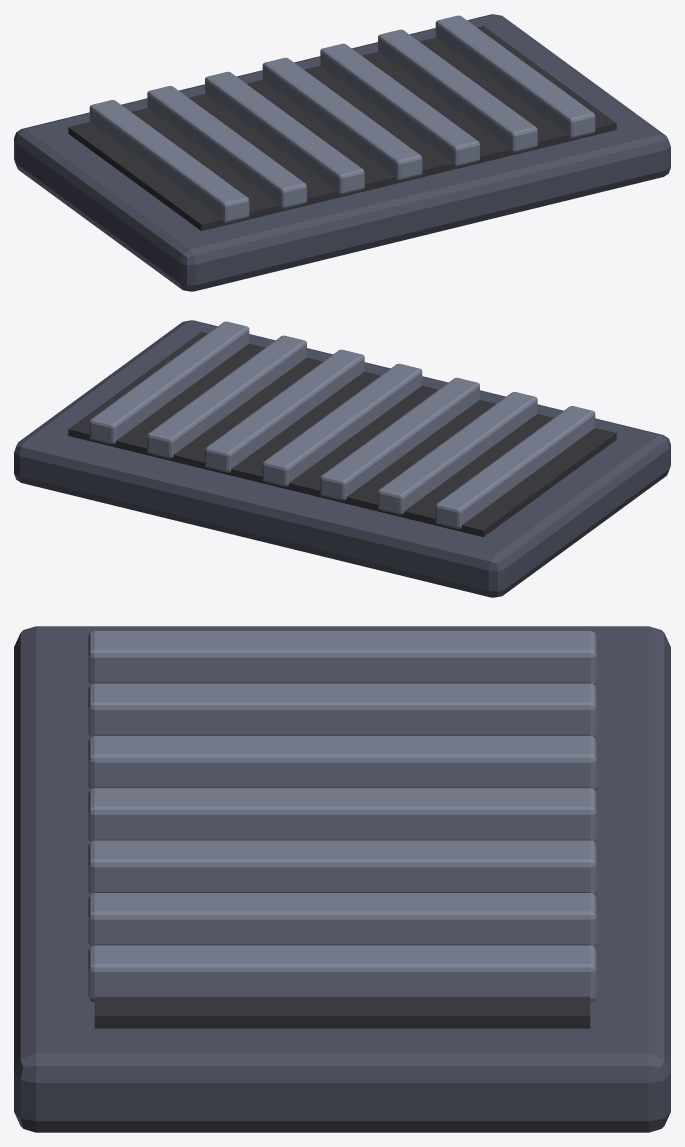
Rendered from storm_drain.glb.
3 views of the same model, one above another, from view 1: azimuth 30°, elevation 25°; view 2: azimuth 150°, elevation 25°; view 3: azimuth 270°, elevation 25° (orthographic). The views are drawn at different scales.
Parts seen in each view (by area): view 1: storm_drain__Frame, storm_drain__Recess, storm_drain__Grate bar.006, storm_drain__Grate bar, storm_drain__Grate bar.003, storm_drain__Grate bar.005, storm_drain__Grate bar.004, storm_drain__Grate bar.001, storm_drain__Grate bar.002; view 2: storm_drain__Frame, storm_drain__Recess, storm_drain__Grate bar.006, storm_drain__Grate bar, storm_drain__Grate bar.003, storm_drain__Grate bar.005, storm_drain__Grate bar.004, storm_drain__Grate bar.001, storm_drain__Grate bar.002; view 3: storm_drain__Frame, storm_drain__Grate bar.002, storm_drain__Grate bar.006, storm_drain__Grate bar.004, storm_drain__Grate bar.001, storm_drain__Grate bar.005, storm_drain__Grate bar, storm_drain__Grate bar.003, storm_drain__Recess.
Part boxes in pixels (x1,y1,x2,y2): storm_drain__Frame: [14, 14, 670, 291]; storm_drain__Recess: [68, 26, 616, 231]; storm_drain__Grate bar.006: [435, 15, 595, 138]; storm_drain__Grate bar: [89, 100, 249, 222]; storm_drain__Grate bar.003: [262, 57, 422, 180]; storm_drain__Grate bar.005: [378, 29, 537, 152]; storm_drain__Grate bar.004: [320, 43, 479, 166]; storm_drain__Grate bar.001: [147, 86, 306, 208]; storm_drain__Grate bar.002: [205, 71, 364, 194]; storm_drain__Frame: [14, 320, 670, 597]; storm_drain__Recess: [68, 332, 616, 537]; storm_drain__Grate bar.006: [89, 321, 249, 444]; storm_drain__Grate bar: [435, 406, 595, 528]; storm_drain__Grate bar.003: [262, 363, 422, 486]; storm_drain__Grate bar.005: [147, 335, 306, 458]; storm_drain__Grate bar.004: [205, 349, 364, 472]; storm_drain__Grate bar.001: [378, 392, 537, 514]; storm_drain__Grate bar.002: [320, 377, 479, 500]; storm_drain__Frame: [14, 626, 670, 1132]; storm_drain__Grate bar.002: [88, 735, 596, 789]; storm_drain__Grate bar.006: [88, 945, 596, 1001]; storm_drain__Grate bar.004: [88, 840, 596, 894]; storm_drain__Grate bar.001: [88, 683, 596, 737]; storm_drain__Grate bar.005: [88, 893, 596, 946]; storm_drain__Grate bar: [88, 631, 596, 684]; storm_drain__Grate bar.003: [88, 788, 596, 841]; storm_drain__Recess: [94, 682, 590, 1028].
Size of the model in its own units: 0.17 by 0.0216 by 0.106.
